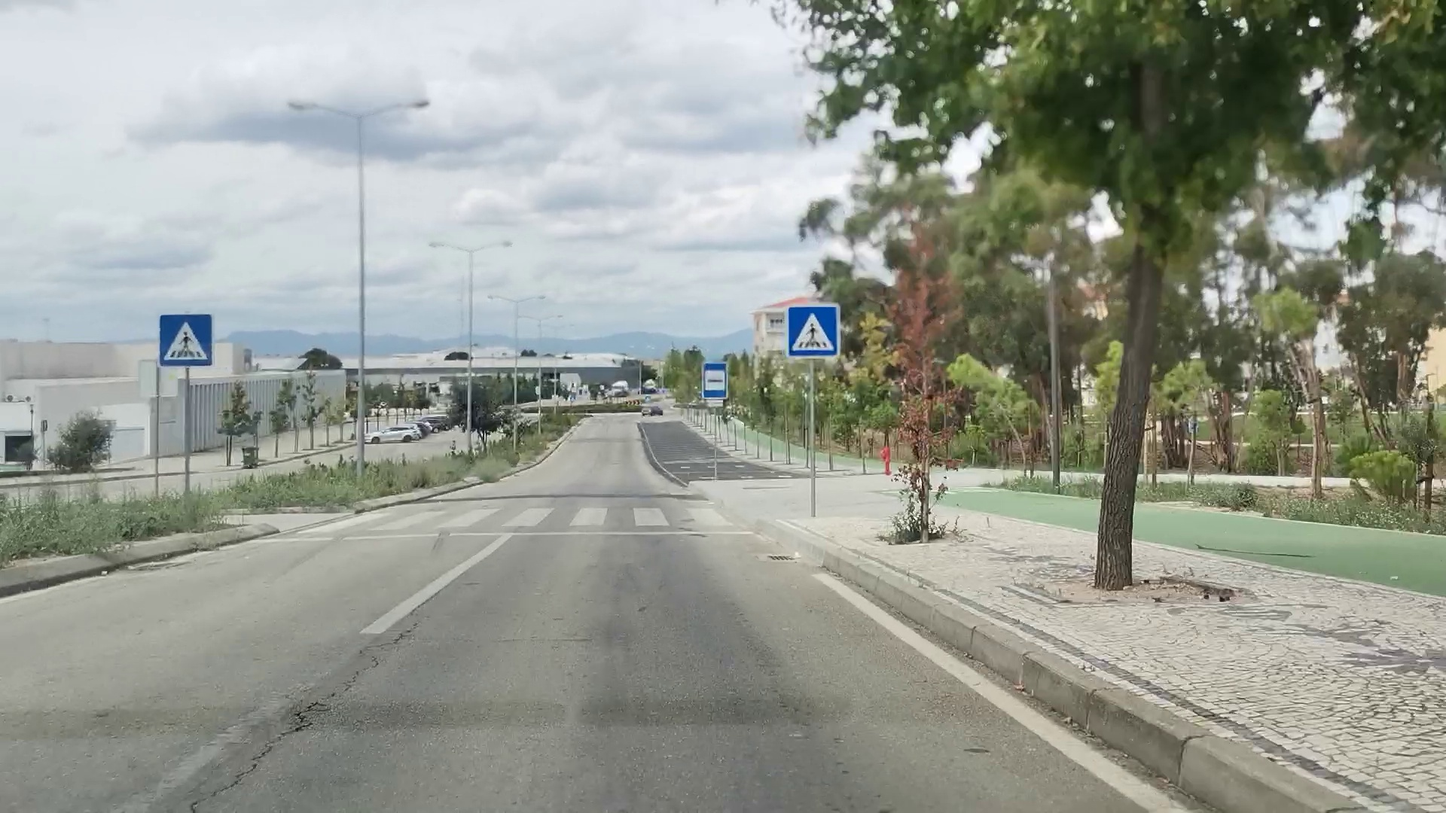Stairs: (309, 504, 732, 534)
